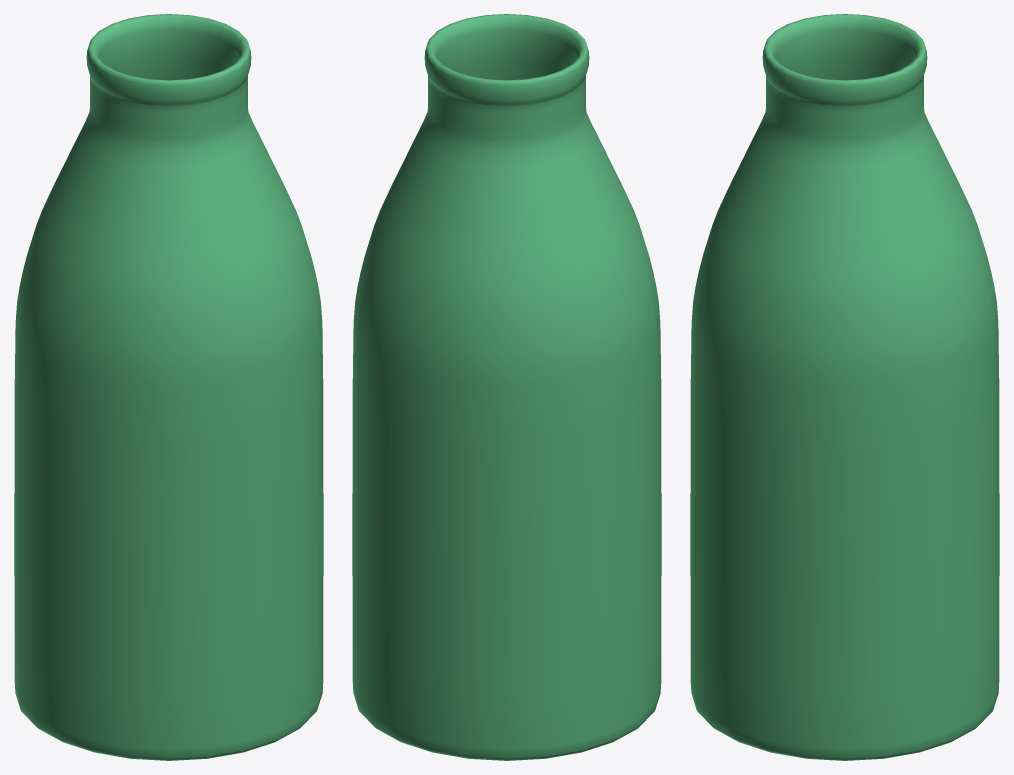
Rendered from bottle.fbx.
3 renders of one model, left to right at view 1: azimuth 30°, elevation 25°; view 2: azimuth 150°, elevation 25°; view 3: azimuth 270°, elevation 25°, orthographic.
Visible parts, largest first — view 1: Cylinder; view 2: Cylinder; view 3: Cylinder.
Boxes of the visible parts, x1,y1,x2,y2 form: Cylinder: (14,14,323,760); Cylinder: (352,14,661,760); Cylinder: (690,14,999,760).
Size of the model in its own units: 191 by 444 by 191.
